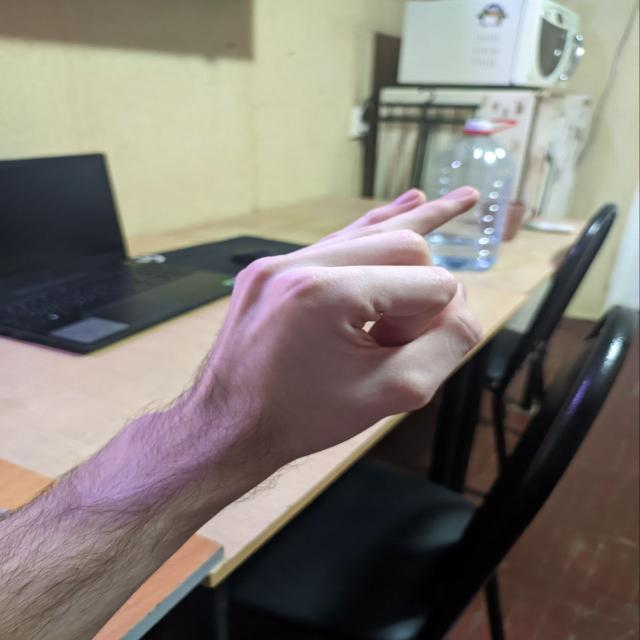i-: (195, 178, 506, 467)
